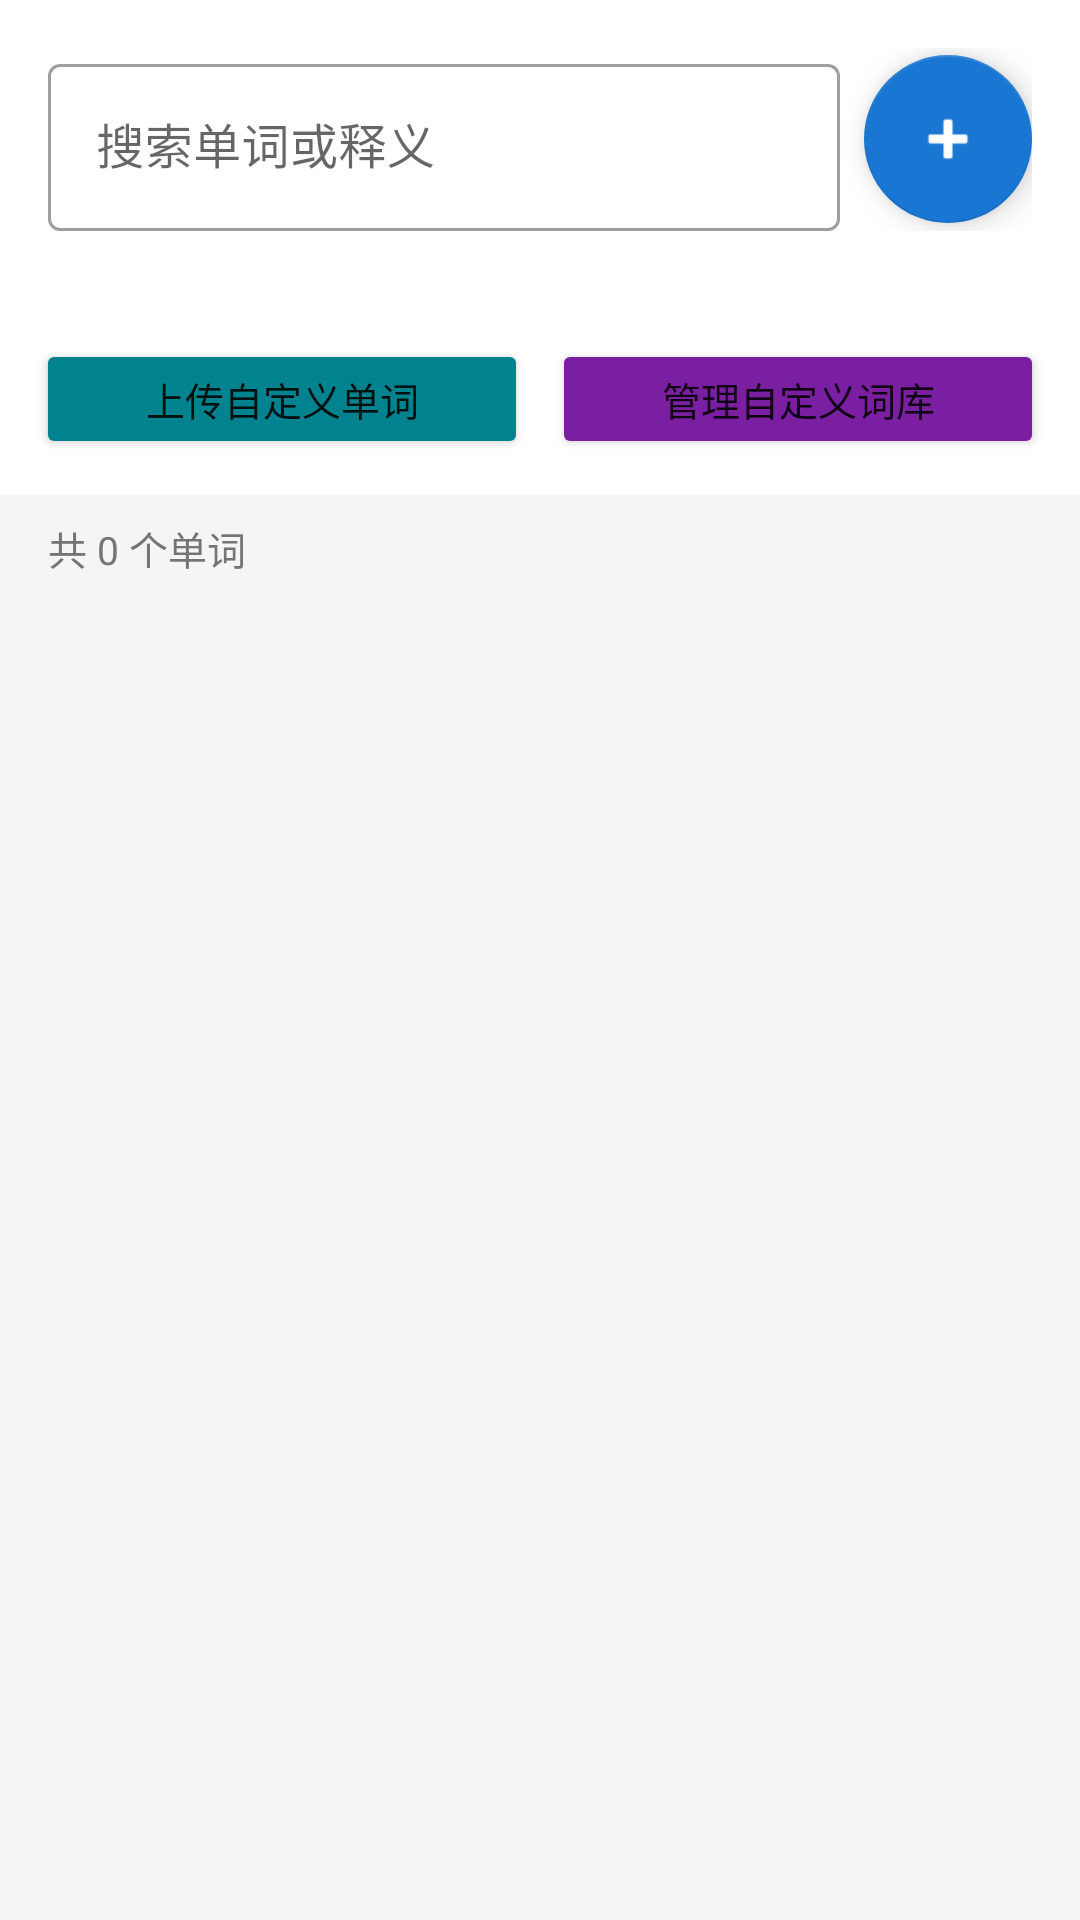

Named icons in this screenshot (1080x1920) and their bounding boxes, (x1, y1, x2, y2):
add: (864, 55, 1032, 223)
